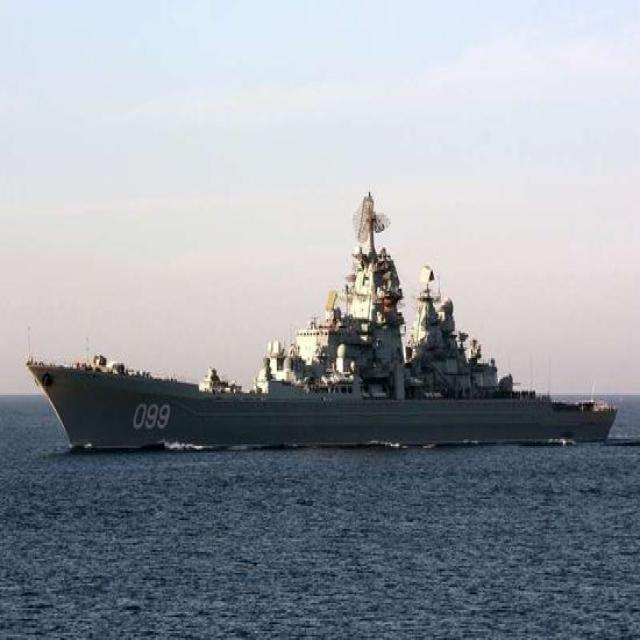navalvessels: (25, 243, 610, 459)
